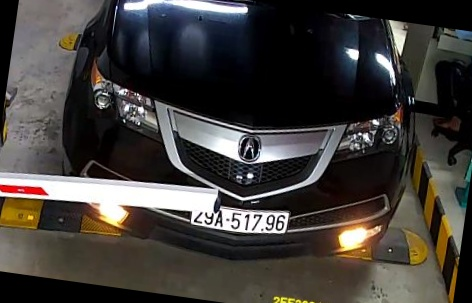plate: (172, 192, 290, 244)
